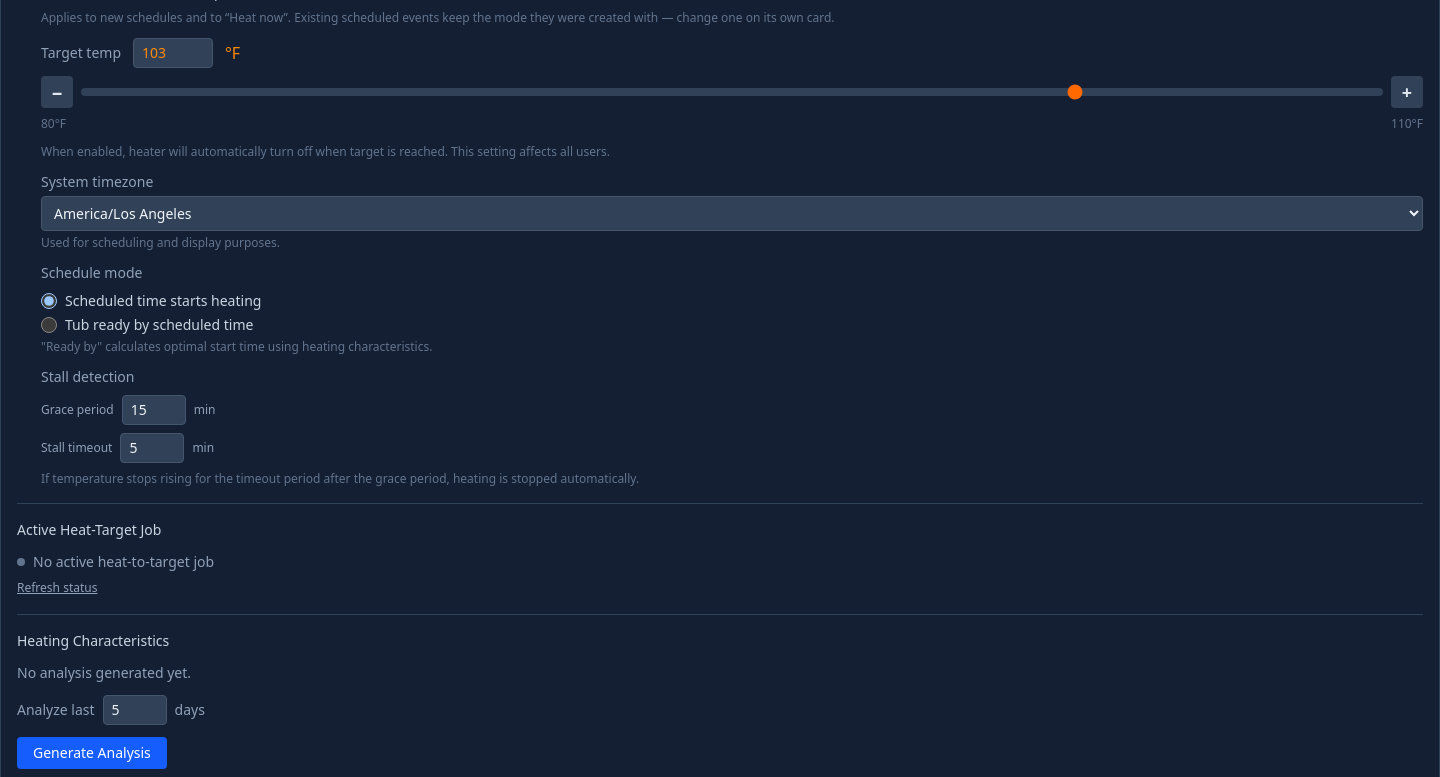
Scenario: SettingsPanel › stall detection settings (admin only) › changing stall settings marks form as dirty
(page scrolled)
Replace the text in the number field named "stall grace period" with "20" at (154, 410), box [122,395,186,425]
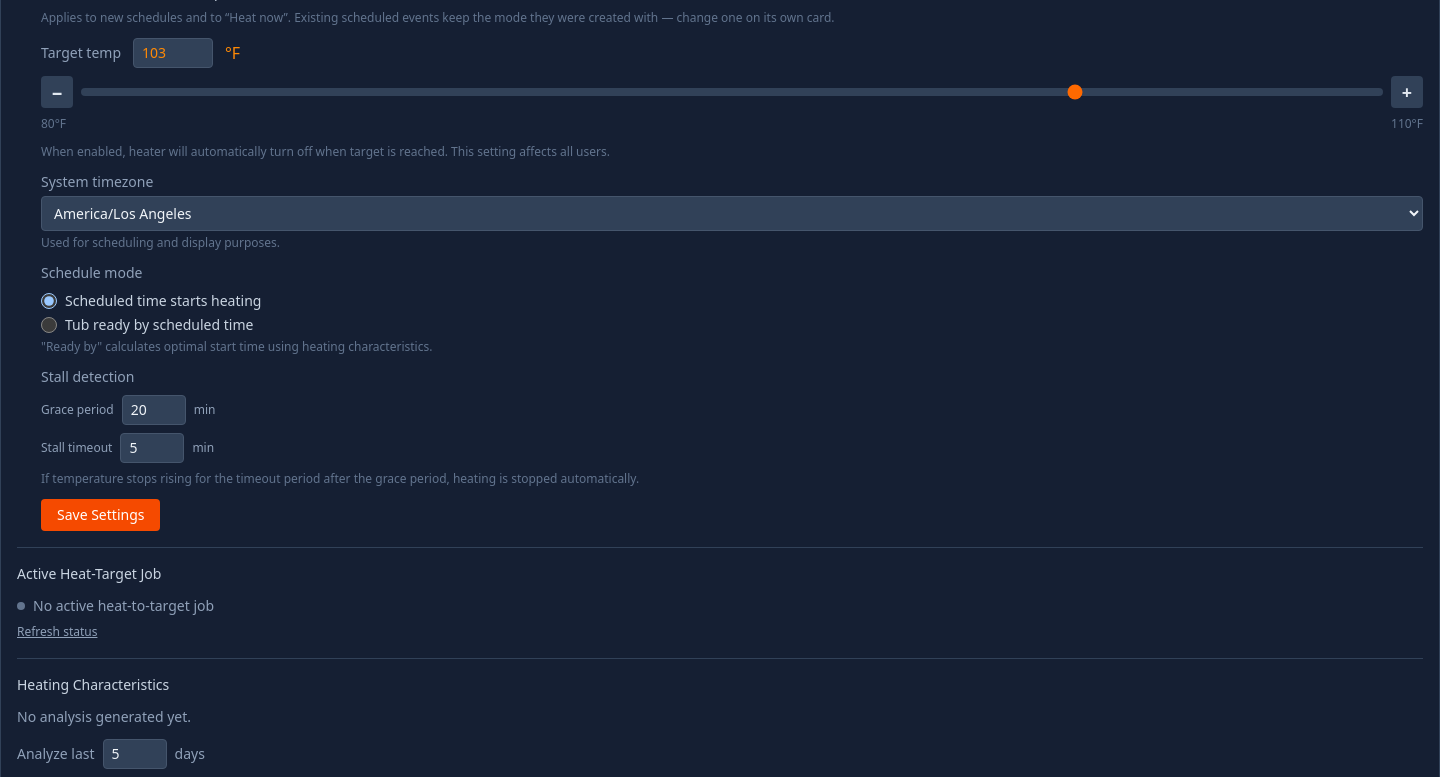
expect the button "Save Settings" is shown: met, box [41,499,160,531]
